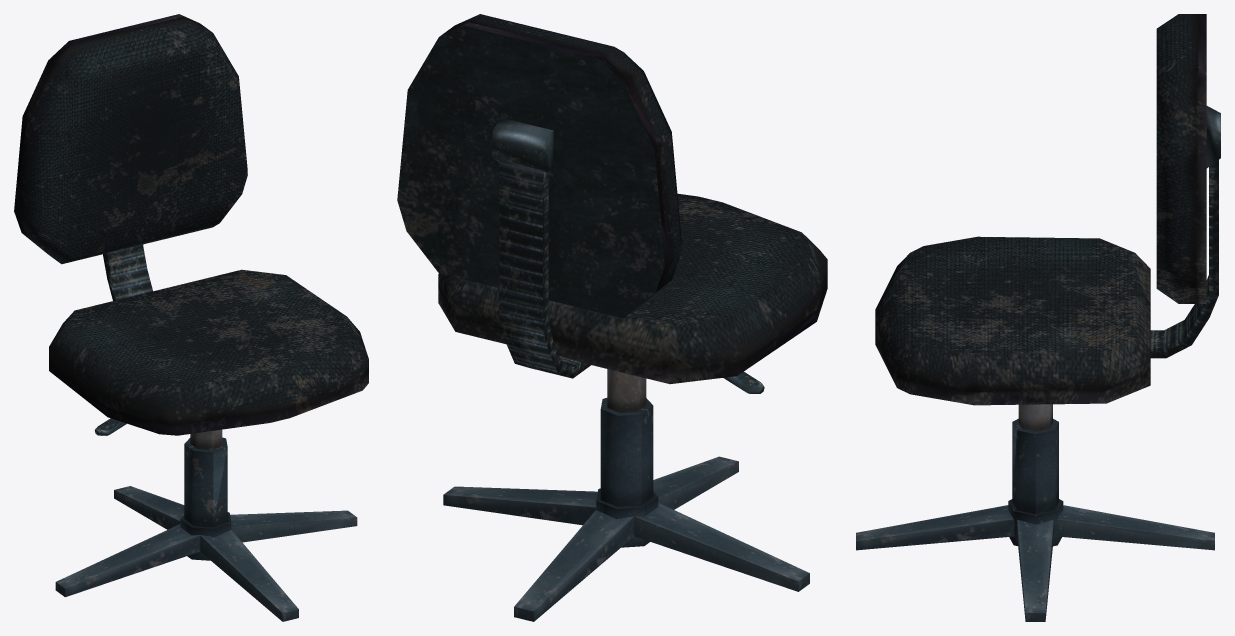
File: furniture_office_chair01.dae
3 renders of one model, left to right at view 1: azimuth 30°, elevation 25°; view 2: azimuth 150°, elevation 25°; view 3: azimuth 270°, elevation 25°, orthographic. The views are drawn at different scales.
Parts seen in each view (by area): view 1: chair, holder; view 2: chair, holder; view 3: chair, holder.
Boxes of the visible parts, x1=… form: chair: x1=14, y1=14, x2=368, y2=435; holder: x1=55, y1=429, x2=357, y2=621; chair: x1=397, y1=14, x2=827, y2=393; holder: x1=443, y1=369, x2=809, y2=621; chair: x1=875, y1=14, x2=1220, y2=405; holder: x1=856, y1=404, x2=1214, y2=621.
Size of what is drawn, in the model's own units: 0.6418 by 0.9915 by 0.6523.
